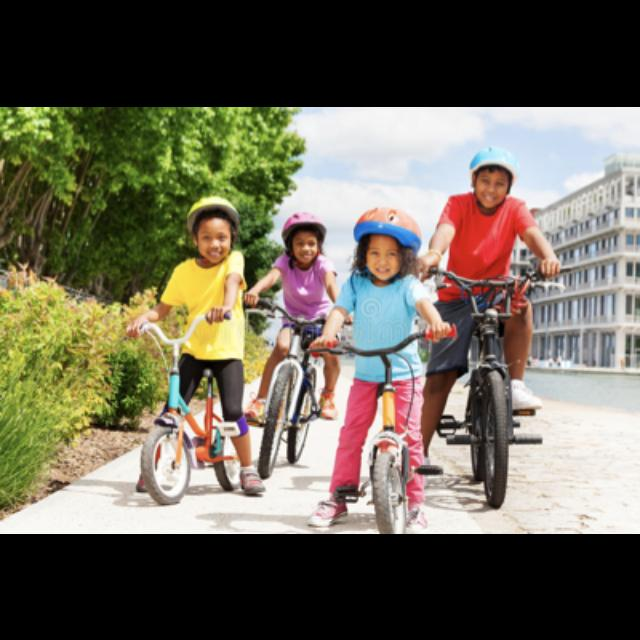With Helmet: (347, 201, 427, 287), (184, 192, 240, 264), (468, 142, 522, 210), (275, 206, 333, 266)
